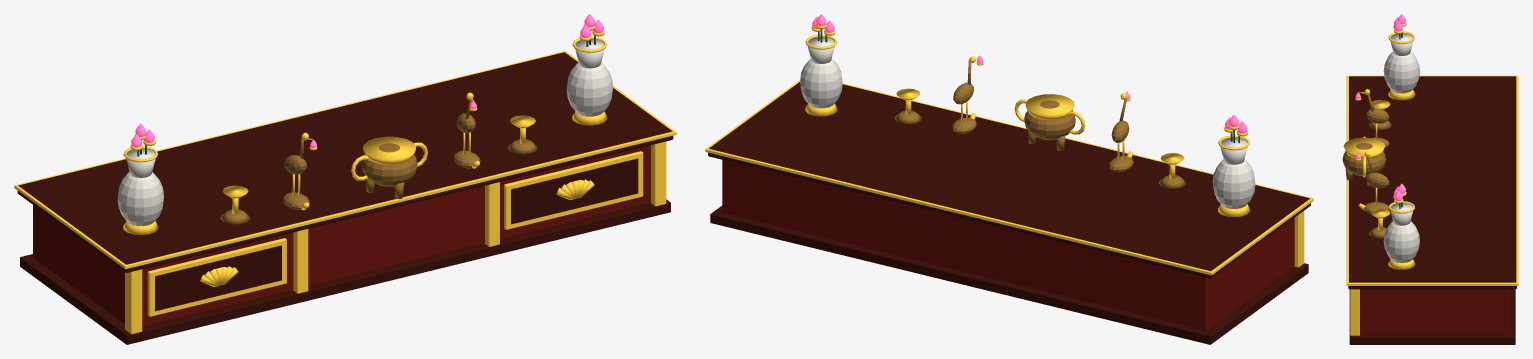
File: ban_tho_tam_bao.glb
The picture shows the model from 3 angles, left to right: view 1: azimuth 30°, elevation 25°; view 2: azimuth 150°, elevation 25°; view 3: azimuth 270°, elevation 25°; orthographic projection. The views are drawn at different scales.
Visible parts, largest first — view 1: ban_tho_tam_bao; view 2: ban_tho_tam_bao; view 3: ban_tho_tam_bao.
Boxes of the visible parts, x1,y1,x2,y2 form: ban_tho_tam_bao: [14, 14, 676, 344]; ban_tho_tam_bao: [705, 14, 1313, 344]; ban_tho_tam_bao: [1342, 14, 1518, 344].
Size of the model in its own units: 18.42 by 5.92 by 6.58.
